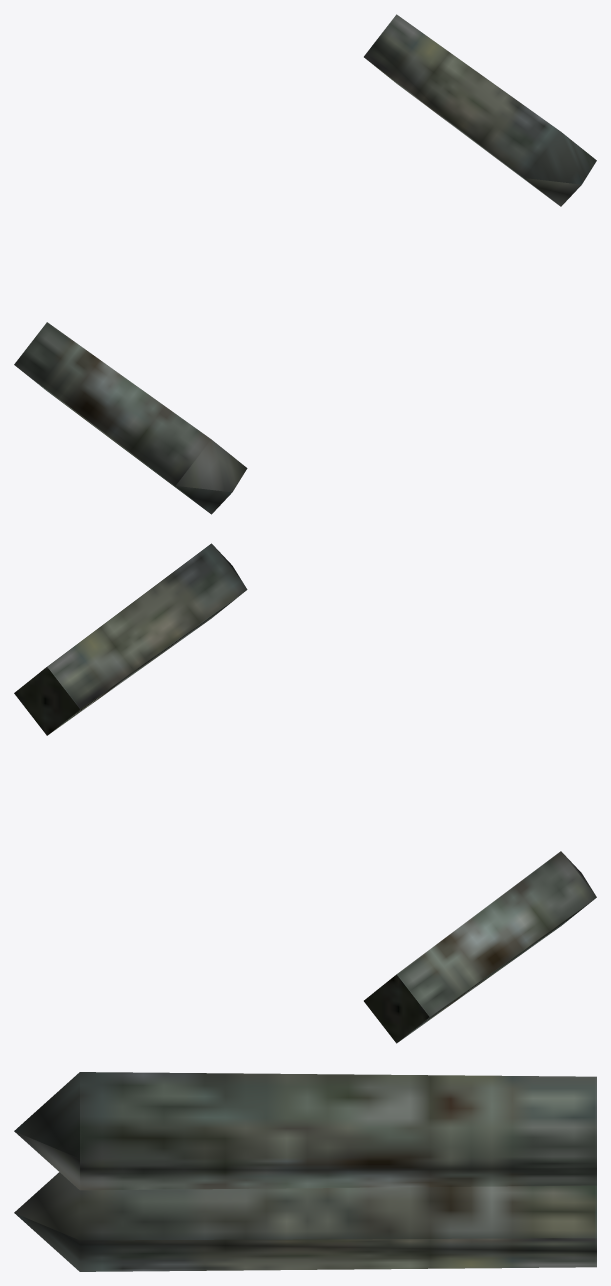
File: xwing_thruster_neg_s01_l2.fbx
3 renders of one model, top to bottom at view 1: azimuth 30°, elevation 25°; view 2: azimuth 150°, elevation 25°; view 3: azimuth 270°, elevation 25°, orthographic. The views are drawn at different scales.
Parts seen in each view (by area): view 1: mesh_node; view 2: mesh_node; view 3: mesh_node.
Part boxes in pixels (x1=…): mesh_node: x1=14, y1=14, x2=596, y2=514; mesh_node: x1=14, y1=543, x2=596, y2=1043; mesh_node: x1=14, y1=1072, x2=596, y2=1271.
Bounding box in the file's own units: 4.21 × 2.84 × 3.21.
Materials: 1 (1 with a texture image).
